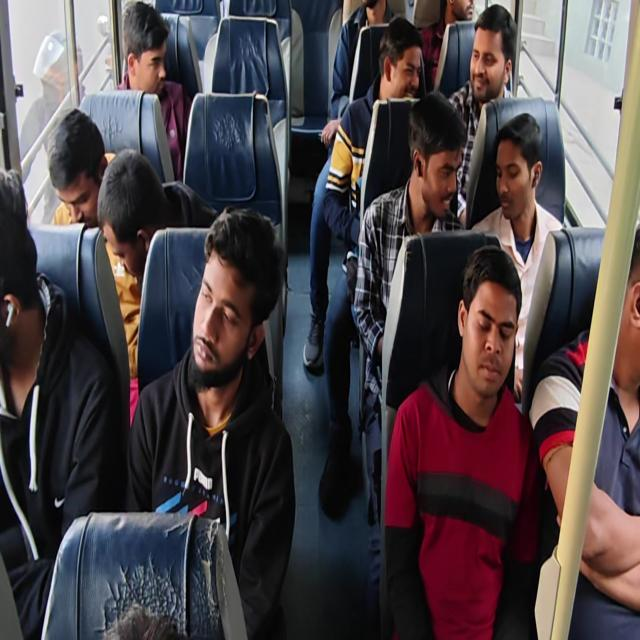person: (190, 230, 256, 381), (0, 161, 49, 339), (106, 153, 166, 256), (463, 281, 510, 394), (600, 251, 640, 371), (487, 123, 536, 218), (412, 125, 458, 222), (53, 116, 99, 212), (125, 7, 170, 96), (464, 23, 499, 98), (386, 41, 422, 100), (350, 0, 389, 26), (447, 0, 478, 30)
